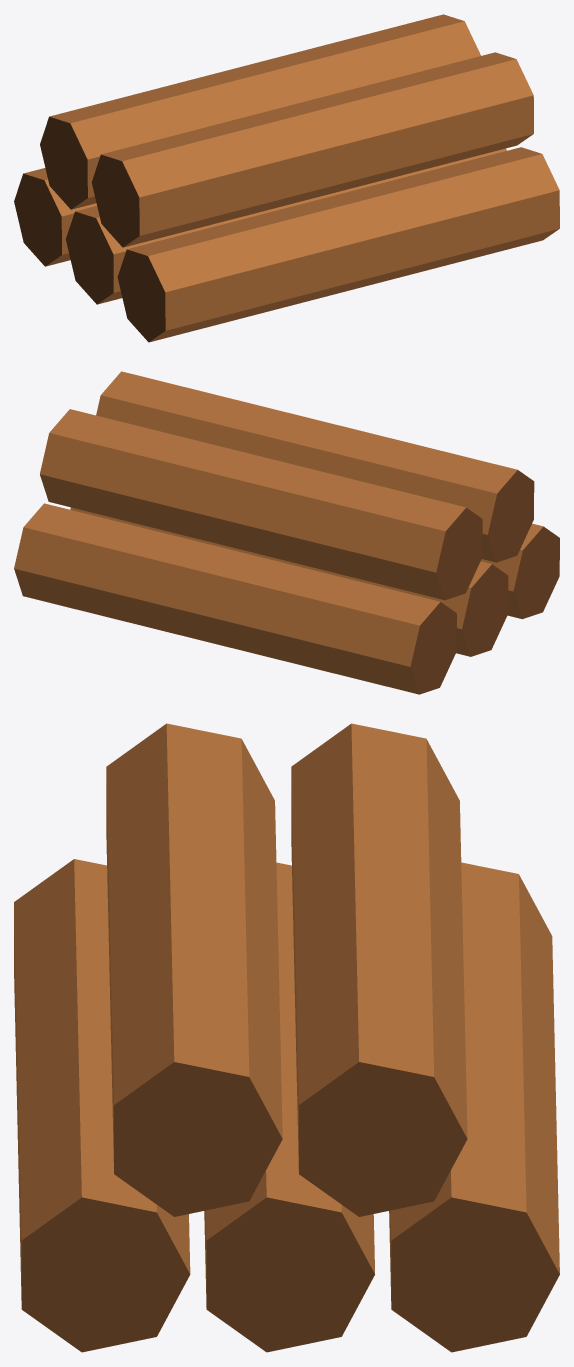
File: log_pile.fbx
The picture shows the model from 3 angles, top to bottom: view 1: azimuth 30°, elevation 25°; view 2: azimuth 150°, elevation 25°; view 3: azimuth 270°, elevation 25°; orthographic projection. The views are drawn at different scales.
Parts seen in each view (by area): view 1: log_pile; view 2: log_pile; view 3: log_pile.
Boxes of the visible parts, bbox=[...] form: log_pile: bbox=[14, 14, 559, 342]; log_pile: bbox=[14, 371, 559, 694]; log_pile: bbox=[14, 723, 559, 1352].
Bounding box in the file's own units: 3 × 1.2 × 2.
